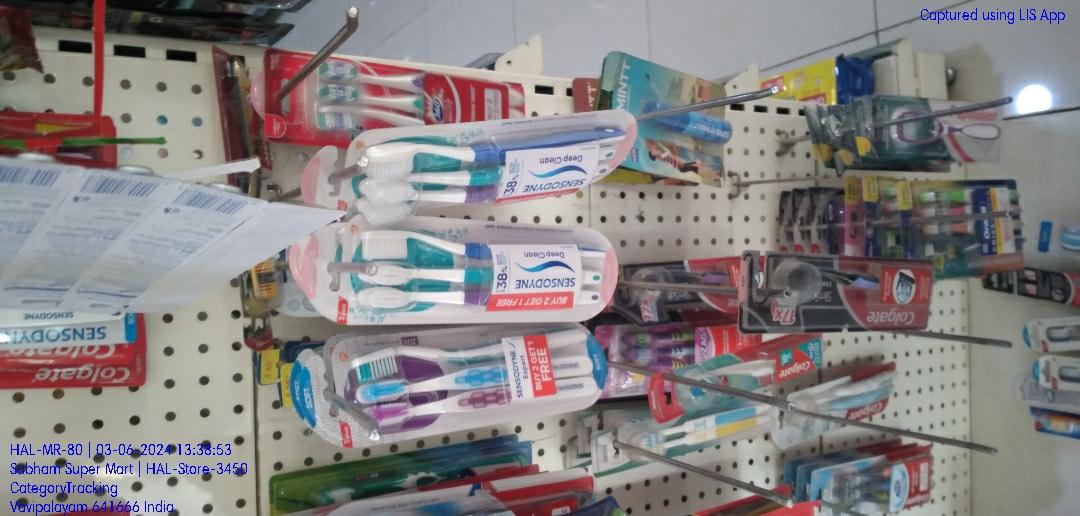5: (633, 151, 868, 302), (410, 144, 601, 295)
6: (169, 142, 393, 288)
soap: (378, 353, 545, 445)
